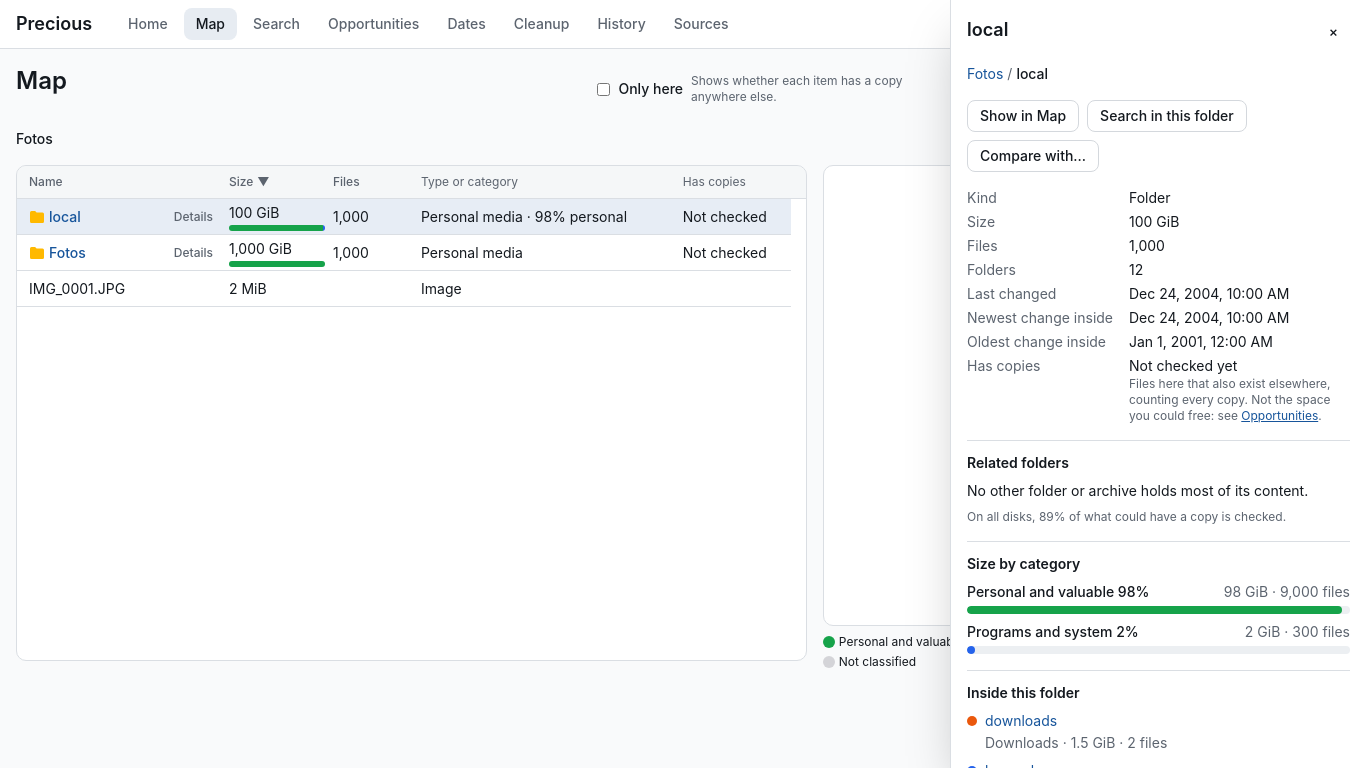
Test case: composition › shows a folder’s composition and what is inside it in the detail panel, each item a link
Step 1. Click the link "downloads" → (1021,721), box [985, 711, 1057, 731]
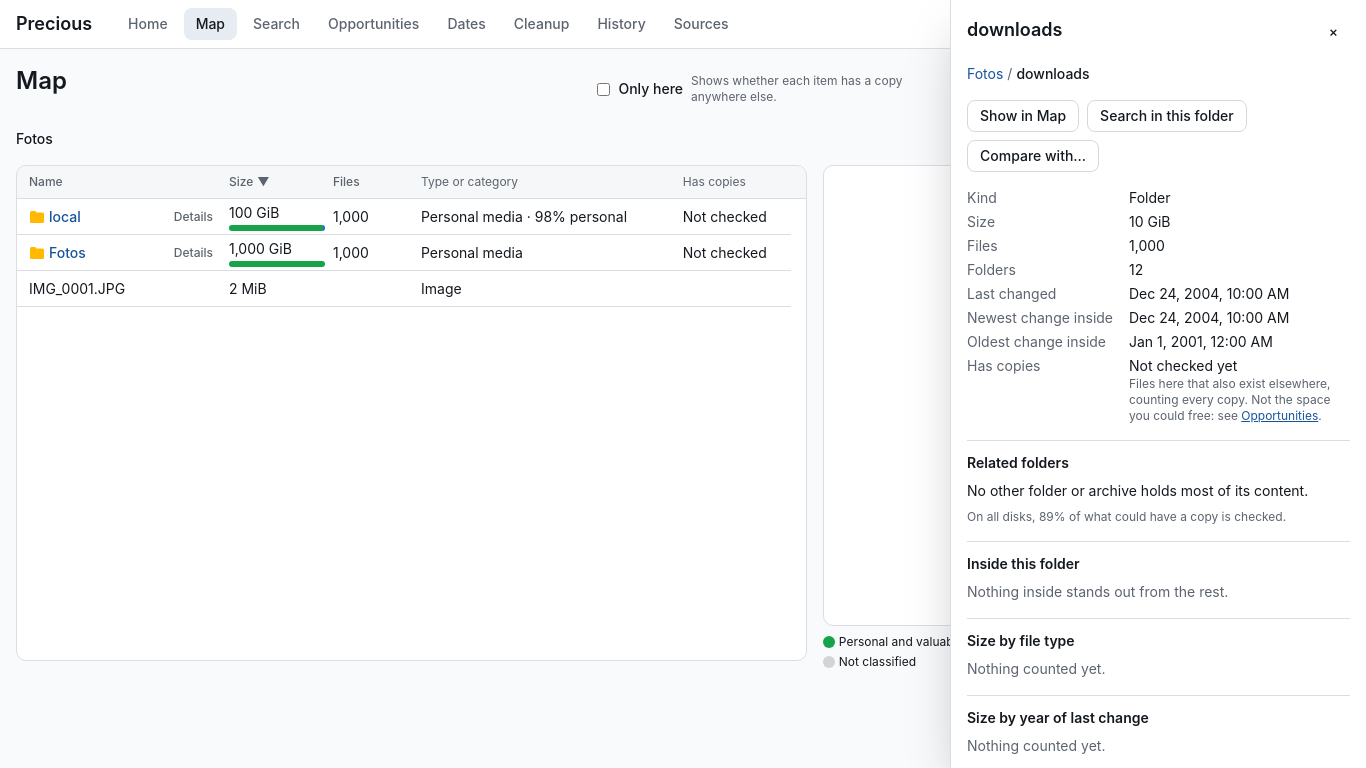
Expected: the element "downloads" is shown, [950, 0, 1365, 767]
Expected: the text "Nothing inside stands out from the rest." is shown, [967, 583, 1228, 600]
